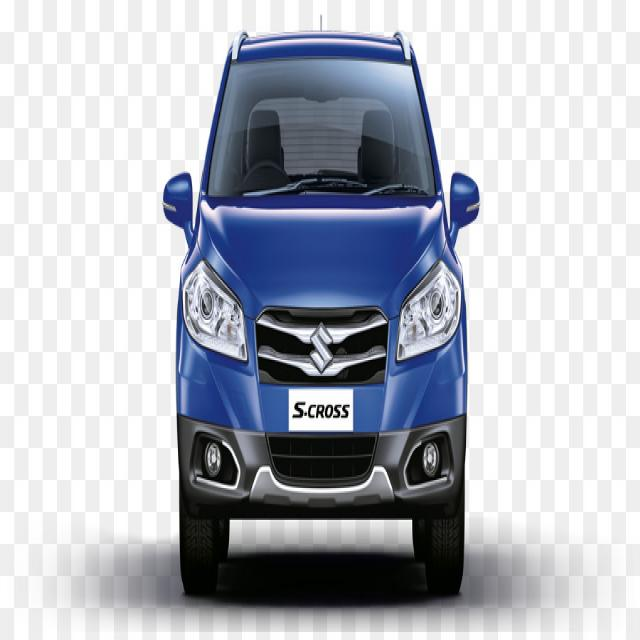yolov7-seg-car: (161, 12, 480, 598)
